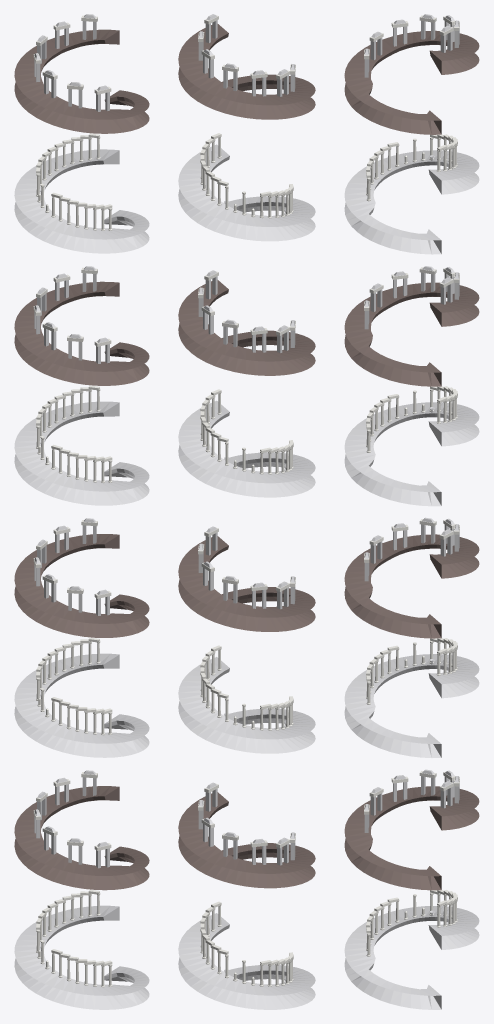
The picture shows the model from 3 angles, left to right: view 1: azimuth 90°, elevation 25°; view 2: azimuth 150°, elevation 25°; view 3: azimuth 330°, elevation 25°; orthographic projection.
Visible parts, largest first — view 1: Circle1; view 2: Circle1; view 3: Circle1.
Part boxes in pixels (bbox=[...]): Circle1: bbox=[14, 14, 149, 1009]; Circle1: bbox=[178, 14, 315, 1009]; Circle1: bbox=[344, 14, 479, 1009].
Size of the model in its own units: 38.86 by 308 by 38.86.
Materials: 1 (1 with a texture image).
